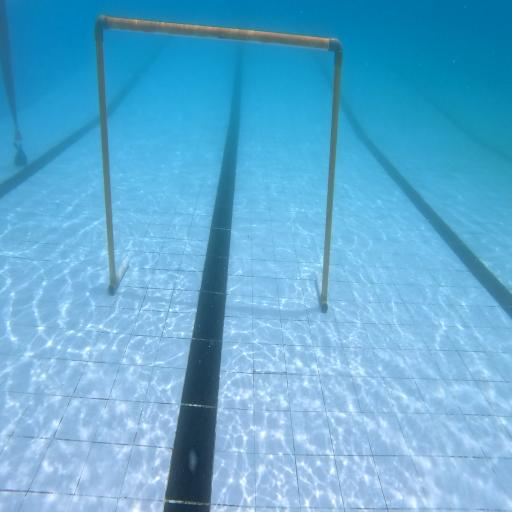gate: (94, 14, 342, 312)
